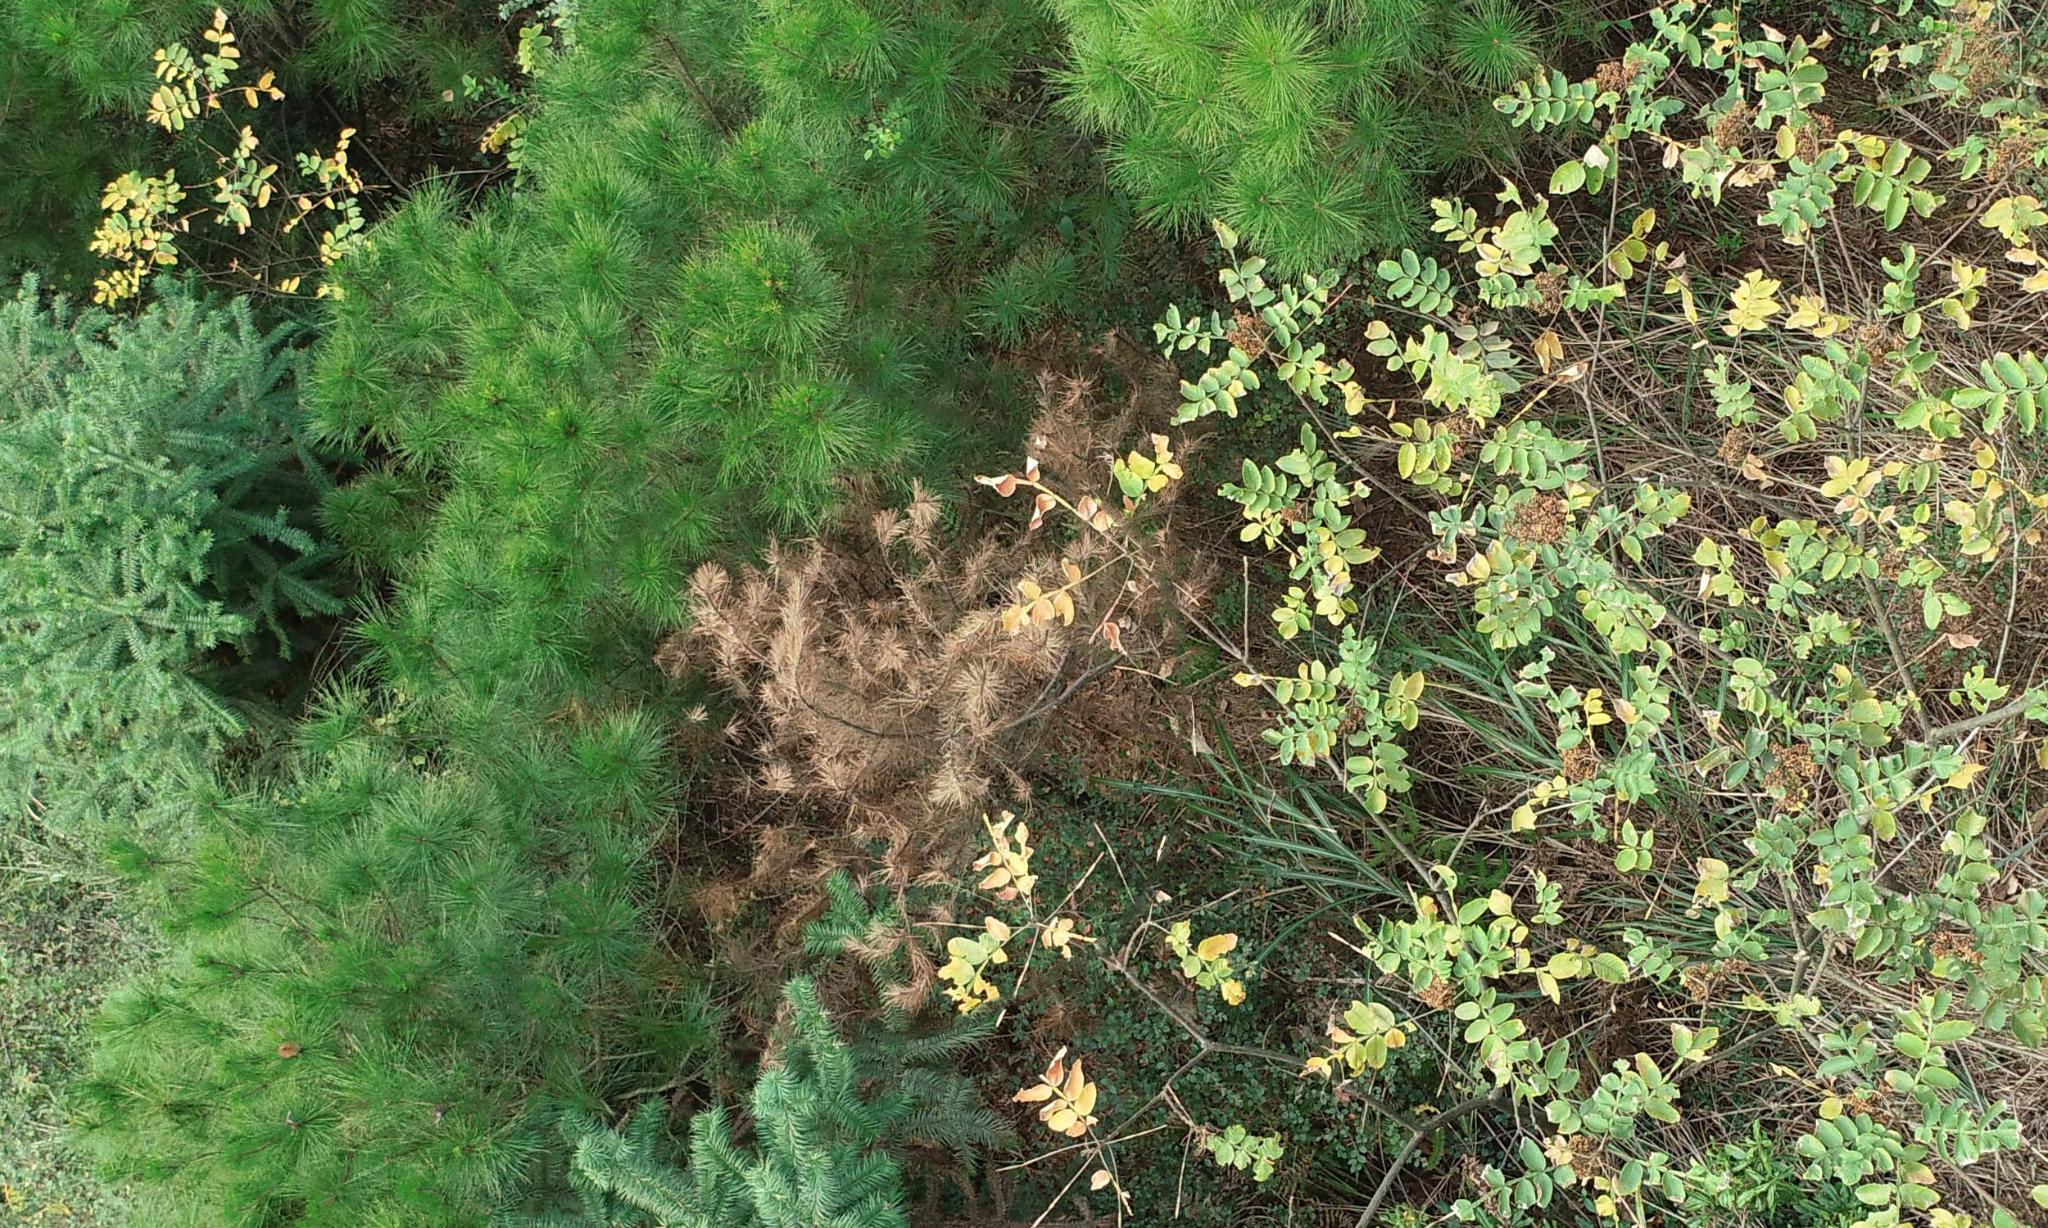heavy: (645, 389, 1146, 922)
